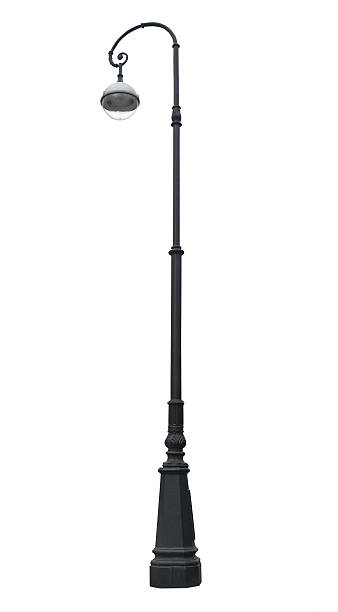light_pole: (147, 104, 202, 585)
